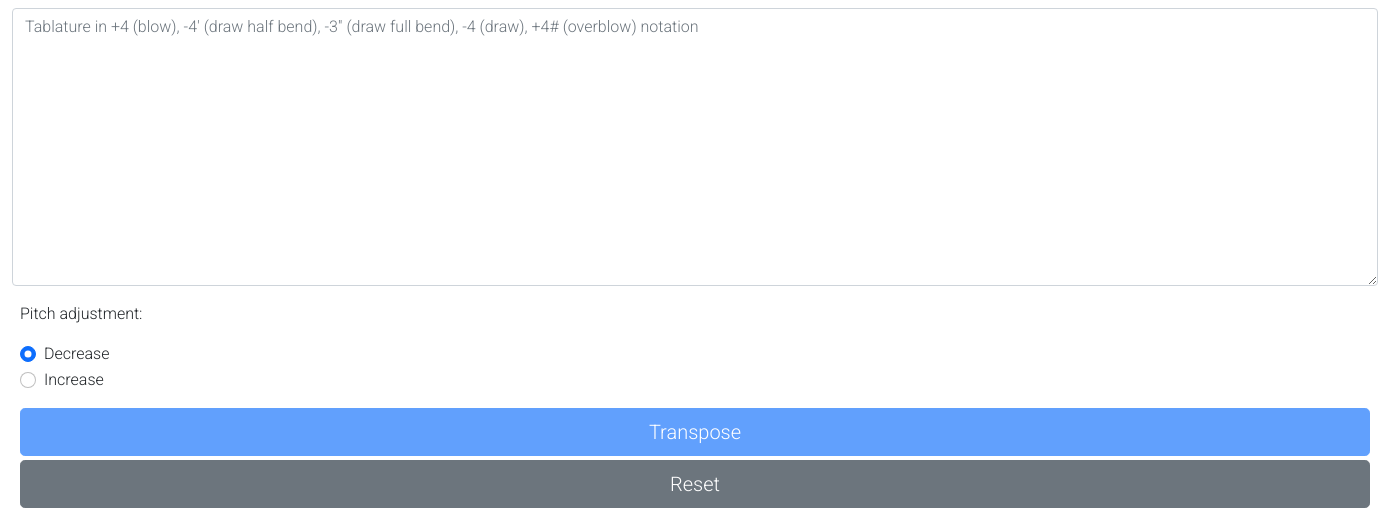
Test case: Transposer › Transpose button › Transposing a tablature should replace tablature with results
Replace the text in the text box with id "tablature" with "+4" at (695, 147), box [12,8,1378,286]
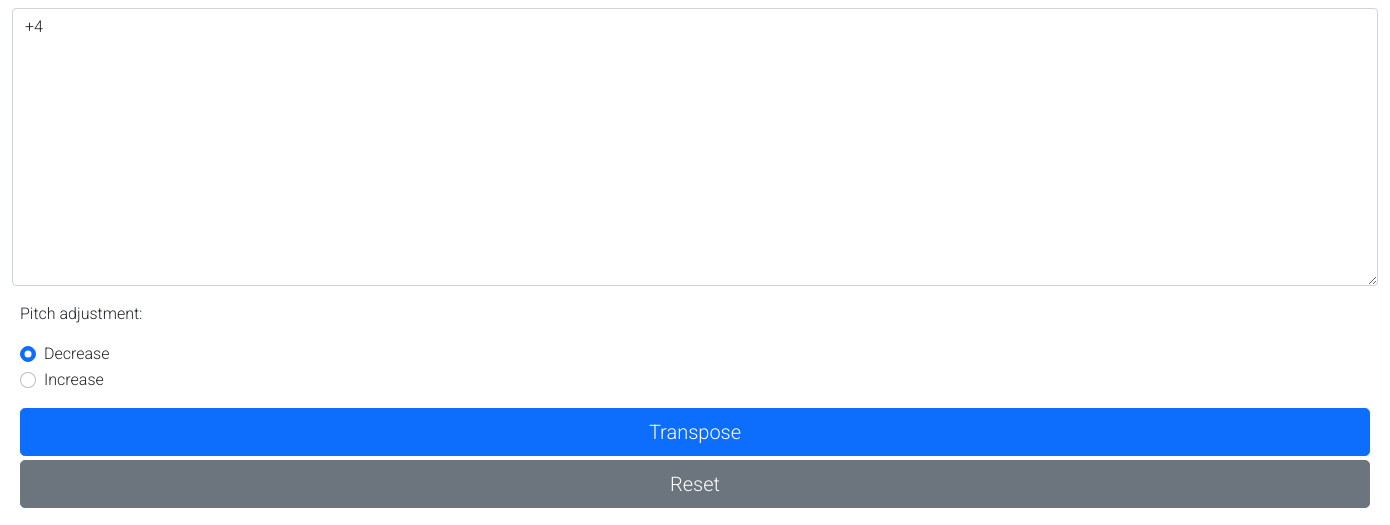
Click the button with id "transposeBtn".
click(695, 432)  # box [20,408,1370,456]
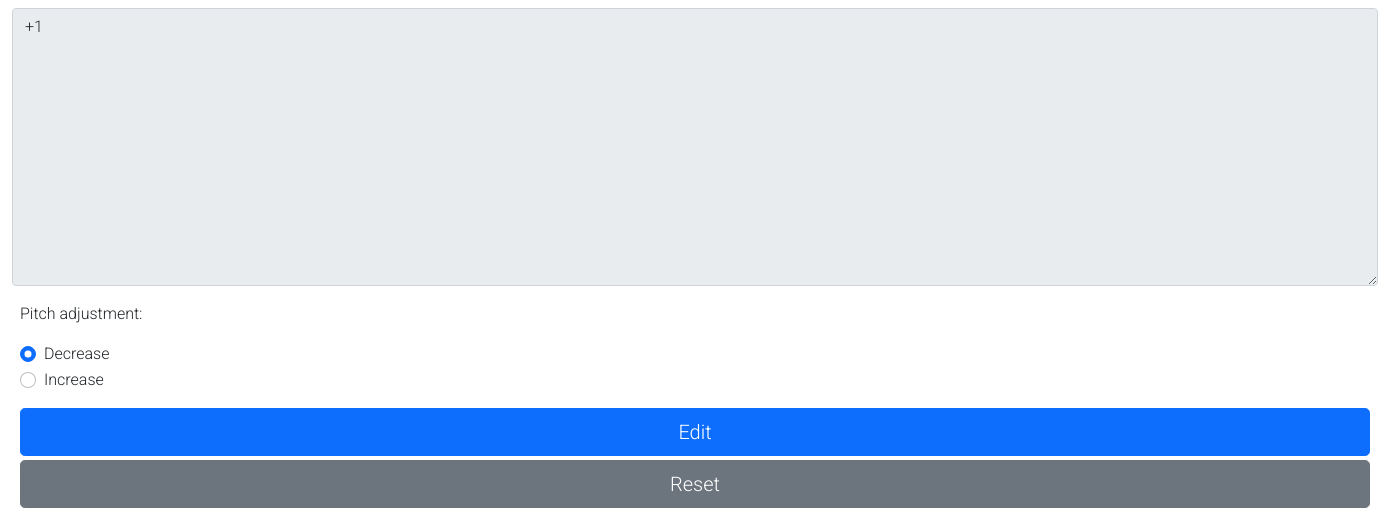
Expected: the text box with id "tablature" is gone
Expected: the text box with id "results" is shown, [12,8,1378,286]
